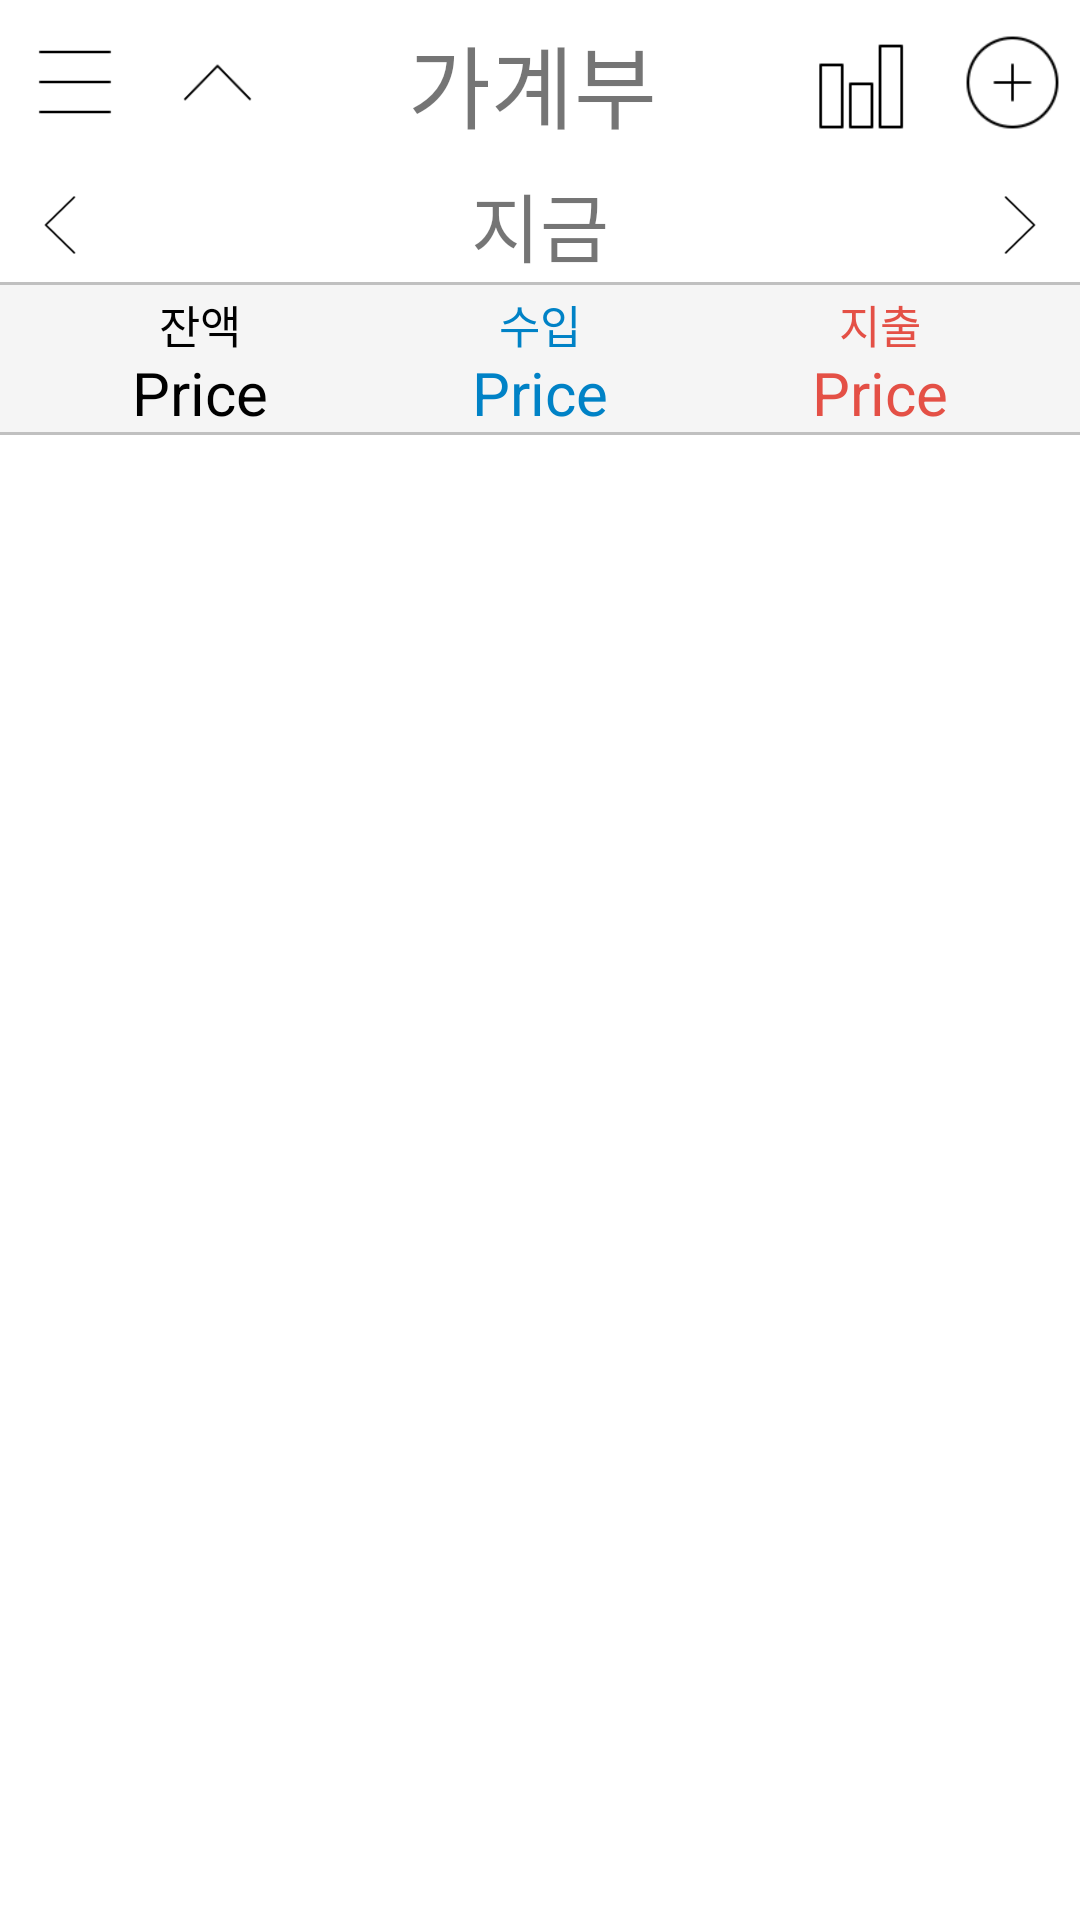

Icons on this 1080px x 1920px Android screen, each with its box as (x1, y1, x2, y2):
add: (966, 36, 1059, 129)
chart: (819, 44, 904, 129)
menu: (39, 50, 111, 114)
